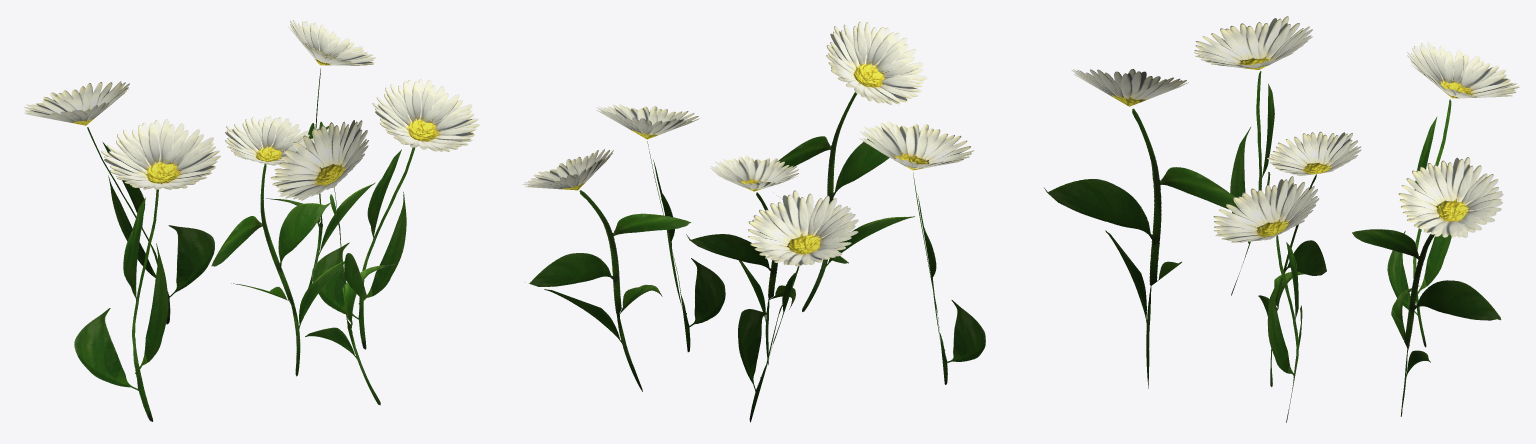
Rendered from Flowers_Daisys.obj.
3 views of the same model, side by side, from view 1: azimuth 30°, elevation 25°; view 2: azimuth 150°, elevation 25°; view 3: azimuth 270°, elevation 25° (orthographic). The views are drawn at different scales.
Parts seen in each view (by area): view 1: polySurface1 polySurface539, polySurface1 polySurface540, polySurface1 polySurface536, polySurface1 polySurface538, polySurface1 polySurface542, polySurface535 polySurface1, polySurface1 polySurface544, polySurface1 polySurface541, polySurface1 polySurface543, polySurface1 polySurface537, polySurface1 polySurface545, polySurface1 polySurface546; view 2: polySurface1 polySurface543, polySurface1 polySurface538, polySurface1 polySurface546, polySurface1 polySurface537, polySurface1 polySurface539, polySurface1 polySurface542, polySurface535 polySurface1, polySurface1 polySurface540, polySurface1 polySurface541, polySurface1 polySurface544, polySurface1 polySurface536, polySurface1 polySurface545; view 3: polySurface1 polySurface537, polySurface1 polySurface545, polySurface1 polySurface546, polySurface1 polySurface536, polySurface1 polySurface539, polySurface1 polySurface543, polySurface1 polySurface541, polySurface1 polySurface544, polySurface1 polySurface538, polySurface535 polySurface1, polySurface1 polySurface540, polySurface1 polySurface542.
Boxes of the visible parts, x1,y1,x2,y2 form: polySurface1 polySurface539: (101, 119, 220, 189); polySurface1 polySurface540: (74, 189, 168, 421); polySurface1 polySurface536: (372, 79, 479, 151); polySurface1 polySurface538: (270, 120, 368, 200); polySurface1 polySurface542: (211, 164, 344, 376); polySurface535 polySurface1: (312, 147, 414, 349); polySurface1 polySurface544: (87, 127, 214, 324); polySurface1 polySurface541: (225, 116, 313, 165); polySurface1 polySurface543: (24, 81, 129, 125); polySurface1 polySurface537: (305, 187, 395, 405); polySurface1 polySurface545: (288, 20, 375, 65); polySurface1 polySurface546: (266, 68, 375, 288); polySurface1 polySurface543: (748, 190, 858, 266); polySurface1 polySurface538: (826, 21, 927, 104); polySurface1 polySurface546: (529, 190, 691, 391); polySurface1 polySurface537: (777, 92, 914, 311); polySurface1 polySurface539: (859, 121, 973, 170); polySurface1 polySurface542: (686, 192, 848, 364); polySurface535 polySurface1: (647, 141, 725, 352); polySurface1 polySurface540: (913, 173, 985, 384); polySurface1 polySurface541: (710, 155, 798, 191); polySurface1 polySurface544: (738, 266, 799, 422); polySurface1 polySurface536: (596, 104, 699, 139); polySurface1 polySurface545: (522, 149, 613, 190); polySurface1 polySurface537: (1044, 108, 1239, 388); polySurface1 polySurface545: (1398, 157, 1503, 237); polySurface1 polySurface546: (1352, 229, 1501, 416); polySurface1 polySurface536: (1213, 176, 1318, 242); polySurface1 polySurface539: (1193, 16, 1312, 69); polySurface1 polySurface543: (1407, 42, 1519, 98); polySurface1 polySurface541: (1267, 131, 1361, 175); polySurface1 polySurface544: (1387, 99, 1451, 347); polySurface1 polySurface538: (1071, 69, 1188, 106); polySurface535 polySurface1: (1267, 235, 1302, 422); polySurface1 polySurface540: (1230, 71, 1274, 295); polySurface1 polySurface542: (1258, 174, 1326, 386).
Size of the model in its own units: 59.63 by 42.67 by 58.57.
1 material, 1 textured.
